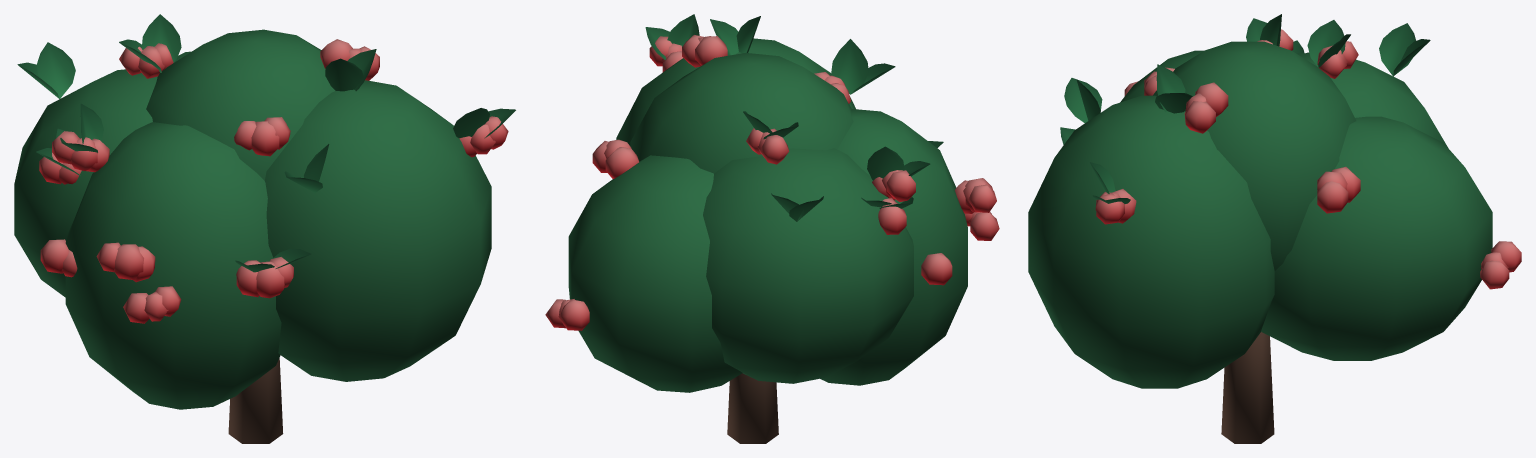
Rendered from ing_holly_berry.glb.
The picture shows the model from 3 angles, left to right: view 1: azimuth 30°, elevation 25°; view 2: azimuth 150°, elevation 25°; view 3: azimuth 270°, elevation 25°; orthographic projection. The views are drawn at different scales.
Visible parts, largest first — view 1: ing_holly_berry; view 2: ing_holly_berry; view 3: ing_holly_berry.
Boxes of the visible parts, bbox=[...] form: ing_holly_berry: bbox=[14, 14, 515, 443]; ing_holly_berry: bbox=[545, 14, 999, 443]; ing_holly_berry: bbox=[1028, 14, 1521, 443].
Size of what is drawn, in the model's own units: 0.5856 by 0.5621 by 0.647.
